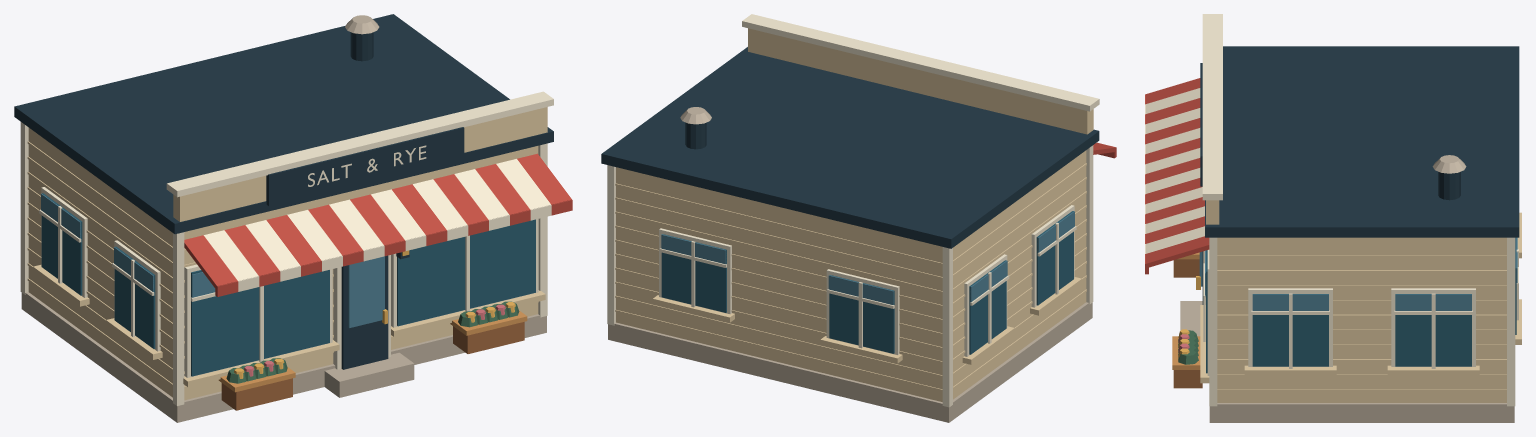
Rendered from salt_and_rye.glb.
3 views of the same model, side by side, from view 1: azimuth 30°, elevation 25°; view 2: azimuth 150°, elevation 25°; view 3: azimuth 270°, elevation 25° (orthographic). The views are drawn at different scales.
Visible parts, largest first — view 1: salt_and_rye; view 2: salt_and_rye; view 3: salt_and_rye.
Part boxes in pixels (x1,y1,x2,y2): salt_and_rye: [14, 14, 572, 422]; salt_and_rye: [601, 14, 1116, 422]; salt_and_rye: [1145, 14, 1521, 422].
Size of the model in its own units: 8.42 by 5.03 by 7.34.
